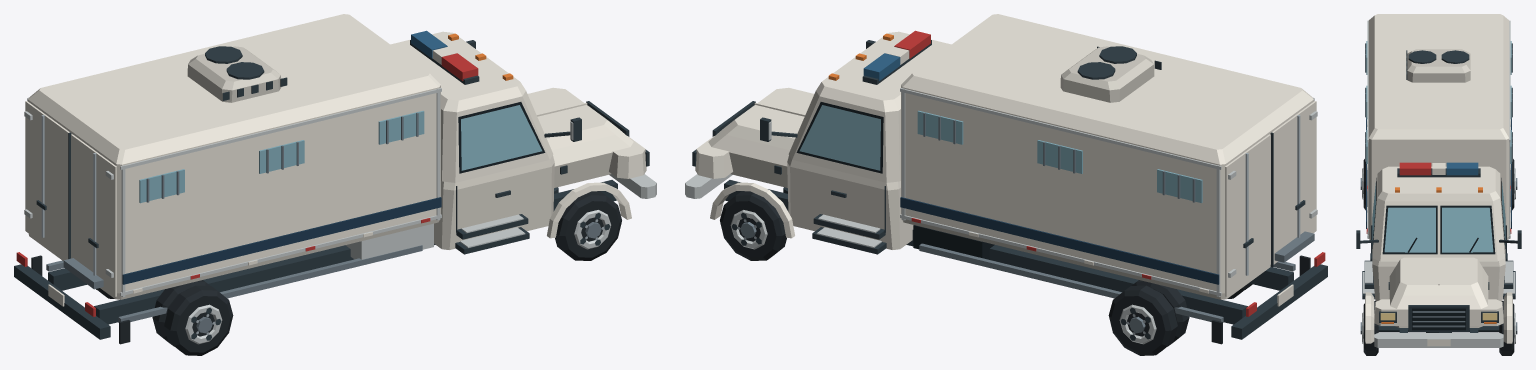
The model's file is b15_prisoner_transport_truck.glb.
3 renders of one model, left to right at view 1: azimuth 30°, elevation 25°; view 2: azimuth 150°, elevation 25°; view 3: azimuth 270°, elevation 25°, orthographic. The views are drawn at different scales.
Parts seen in each view (by area): view 1: b15_prisoner_transport_truck; view 2: b15_prisoner_transport_truck; view 3: b15_prisoner_transport_truck.
Boxes of the visible parts, <box> form: b15_prisoner_transport_truck: <box>14,14,656,355</box>; b15_prisoner_transport_truck: <box>685,14,1327,355</box>; b15_prisoner_transport_truck: <box>1356,14,1521,355</box>.
Bounding box in the file's own units: 8.58 × 3.49 × 2.87.
